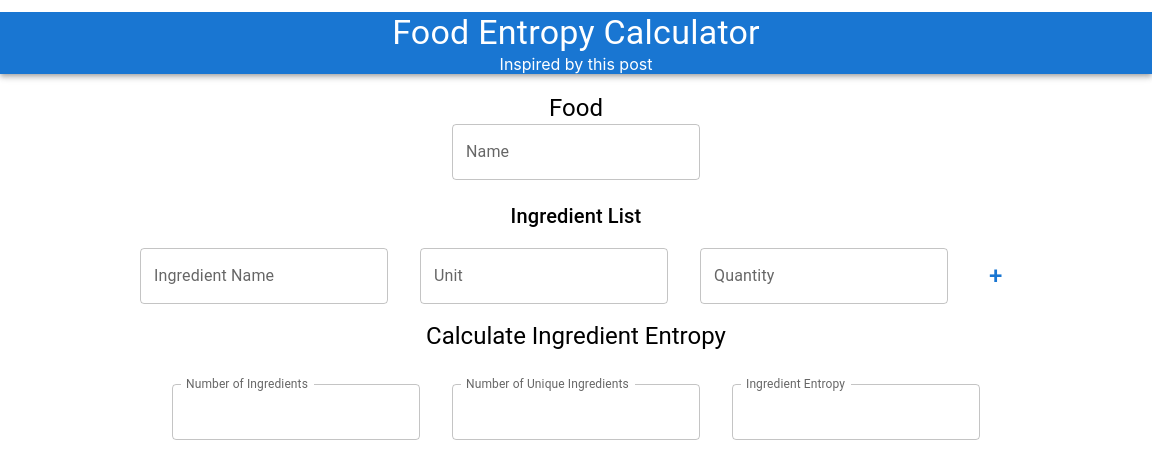
Scenario: salad theory › food › ingredient list › should update entropy
Type "Bun" into the element showing "Ingredient Name". click: (264, 276)
box: [140,248,388,304]
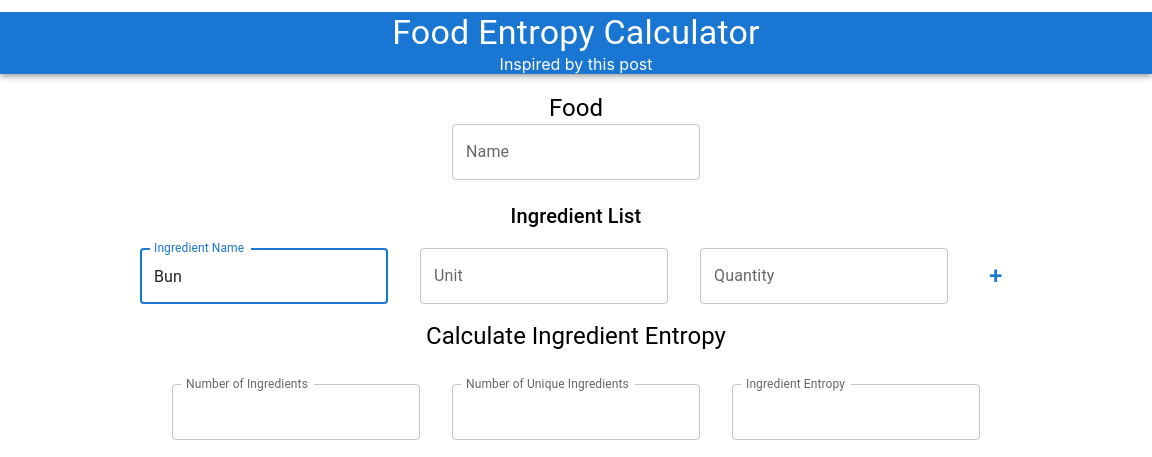
Type "Each" into the element showing "Unit". click: (544, 276)
box: [420,248,668,304]
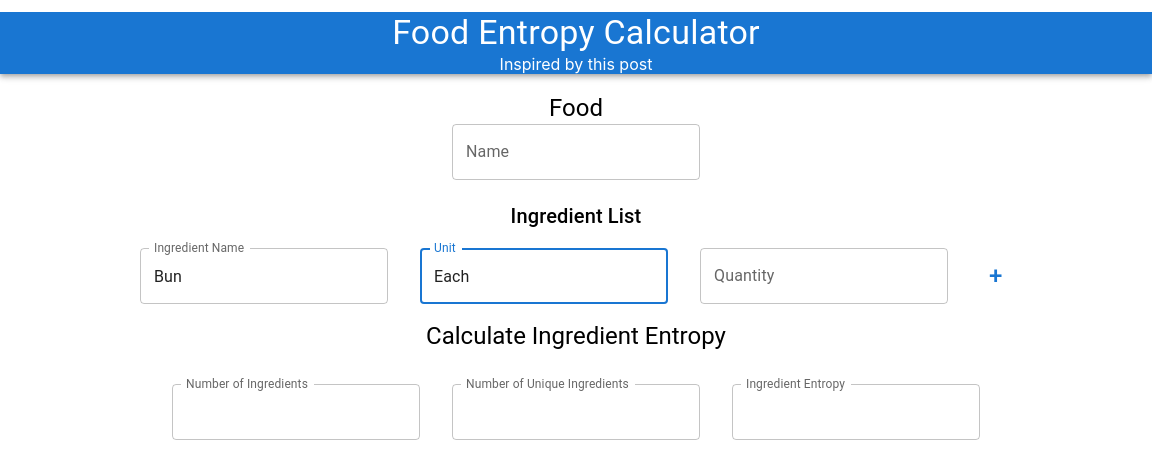
Type "2" into the element showing "Quantity". click: (824, 276)
box: [700,248,948,304]
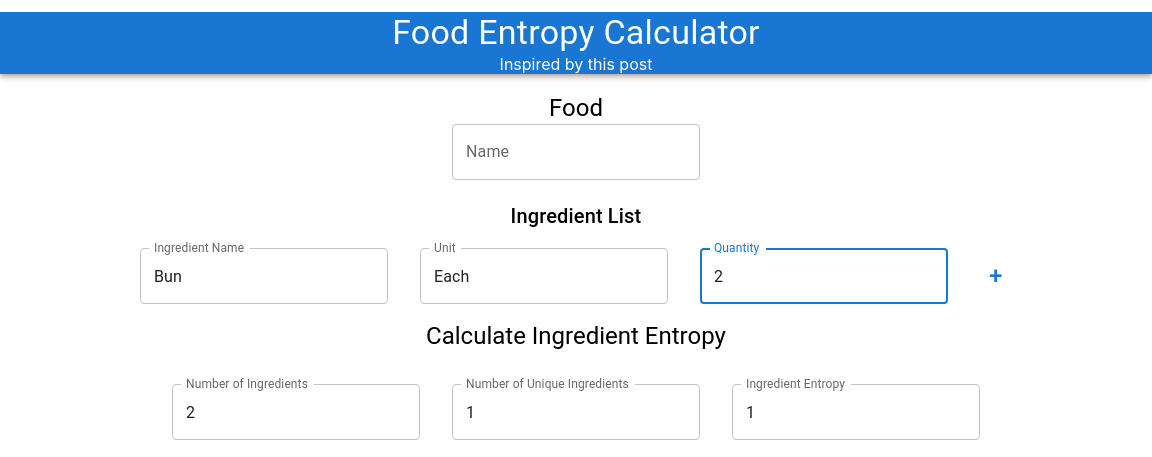
Now the field labelled "Number of Ingredients" holds "2", box [172,384,420,440]
Now the field labelled "Number of Unique Ingredients" holds "1", box [452,384,700,440]
Now the field labelled "Ingredient Entropy" holds "1", box [732,384,980,440]
